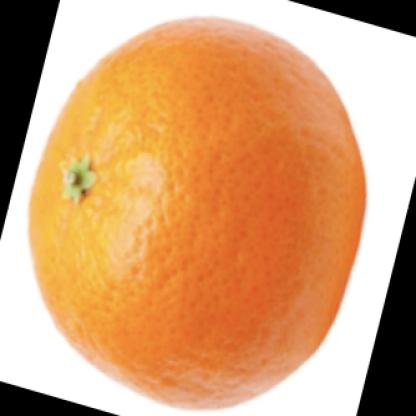fresh: (30, 17, 366, 407)
